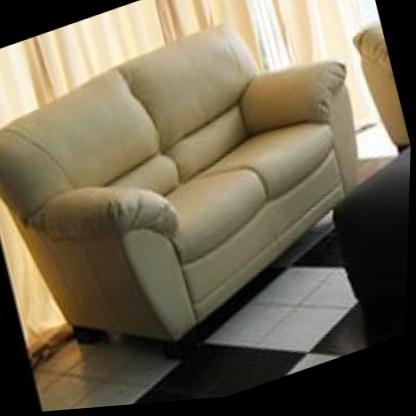Sofa: (0, 0, 410, 411)
